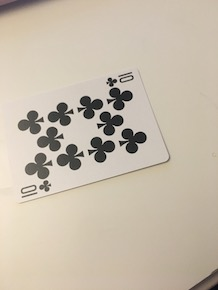TenOfClubs: (1, 61, 175, 204)
